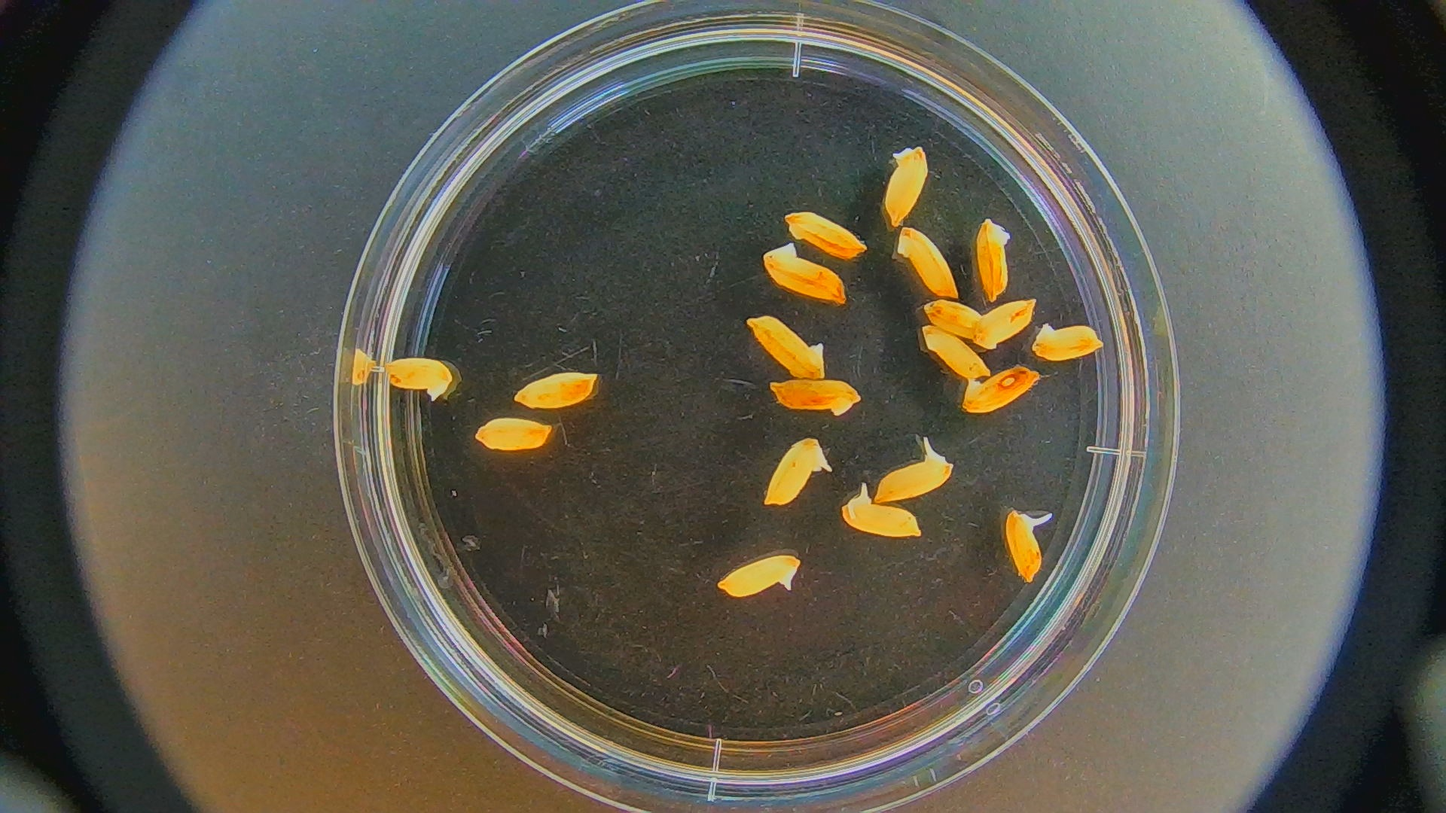no: (759, 243, 855, 307), (742, 313, 830, 380), (892, 221, 962, 301), (879, 143, 935, 236), (764, 370, 863, 422), (954, 364, 1042, 422), (782, 202, 865, 259), (511, 367, 606, 416), (718, 550, 804, 603), (914, 327, 991, 385), (973, 211, 1019, 306), (377, 355, 464, 404), (1030, 316, 1100, 370), (976, 296, 1040, 355), (470, 416, 556, 456)
yes: (755, 431, 831, 516), (874, 437, 955, 507), (837, 483, 927, 545), (999, 502, 1060, 592)
